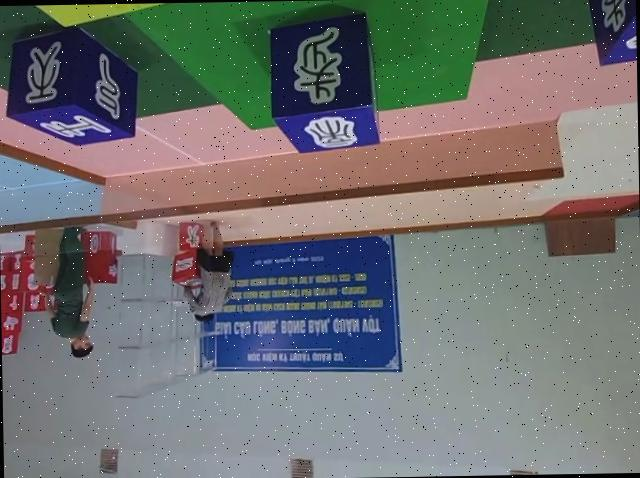R2 Fake Blue: (7, 23, 140, 145), (272, 9, 385, 152), (582, 0, 637, 65)
